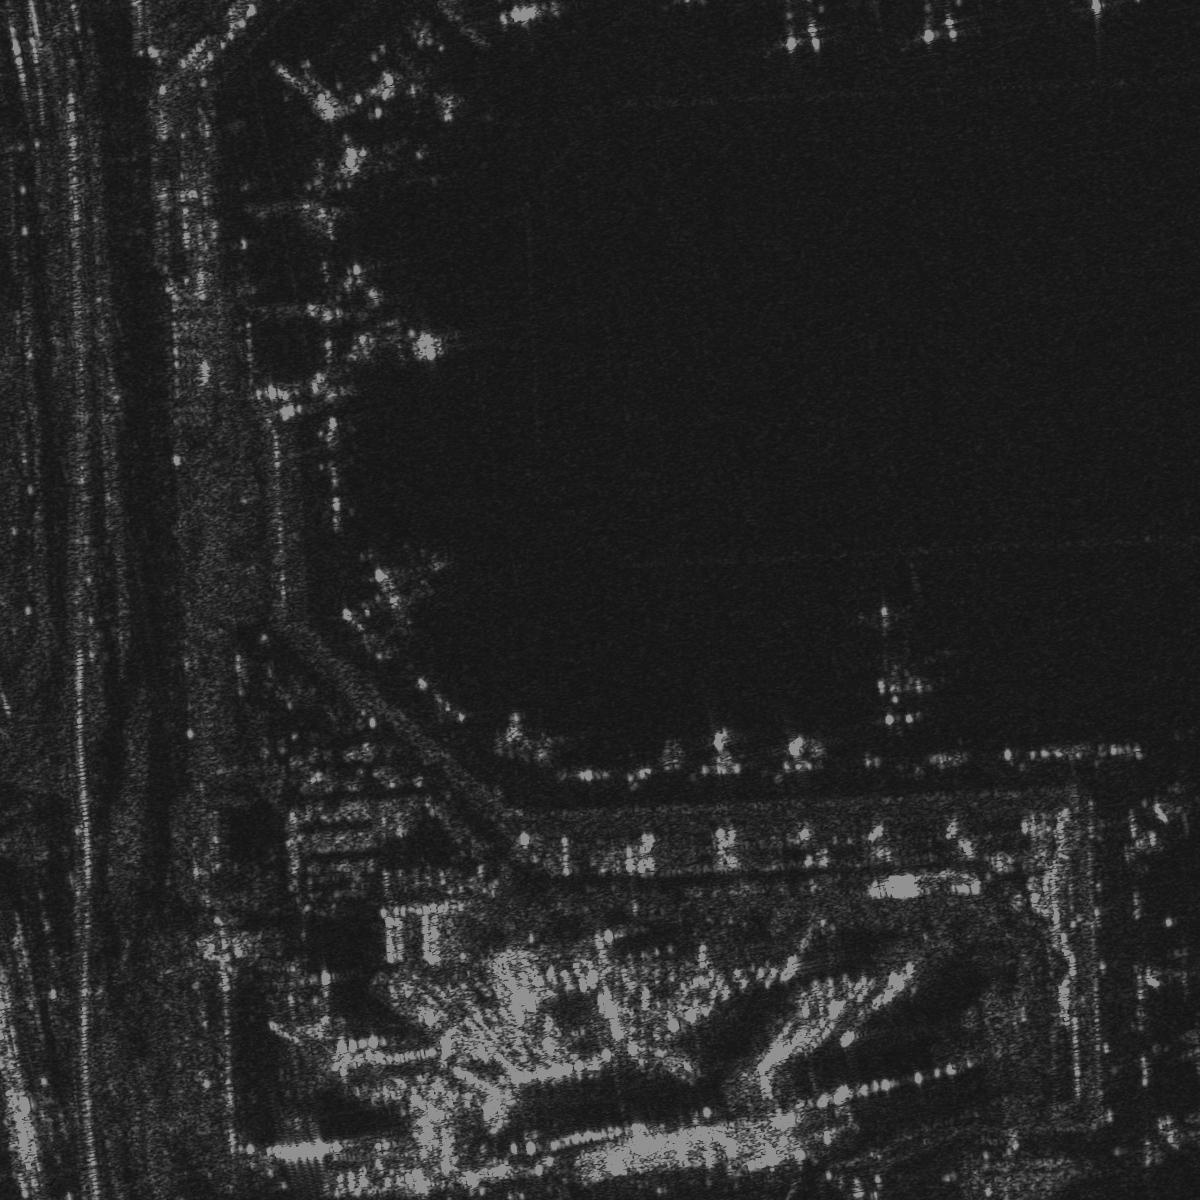A220: (351, 538, 455, 630), (1141, 927, 1199, 998), (1147, 1100, 1199, 1167)
A320/321: (324, 284, 452, 370), (387, 63, 469, 127)
Boeing787: (860, 602, 941, 736)
